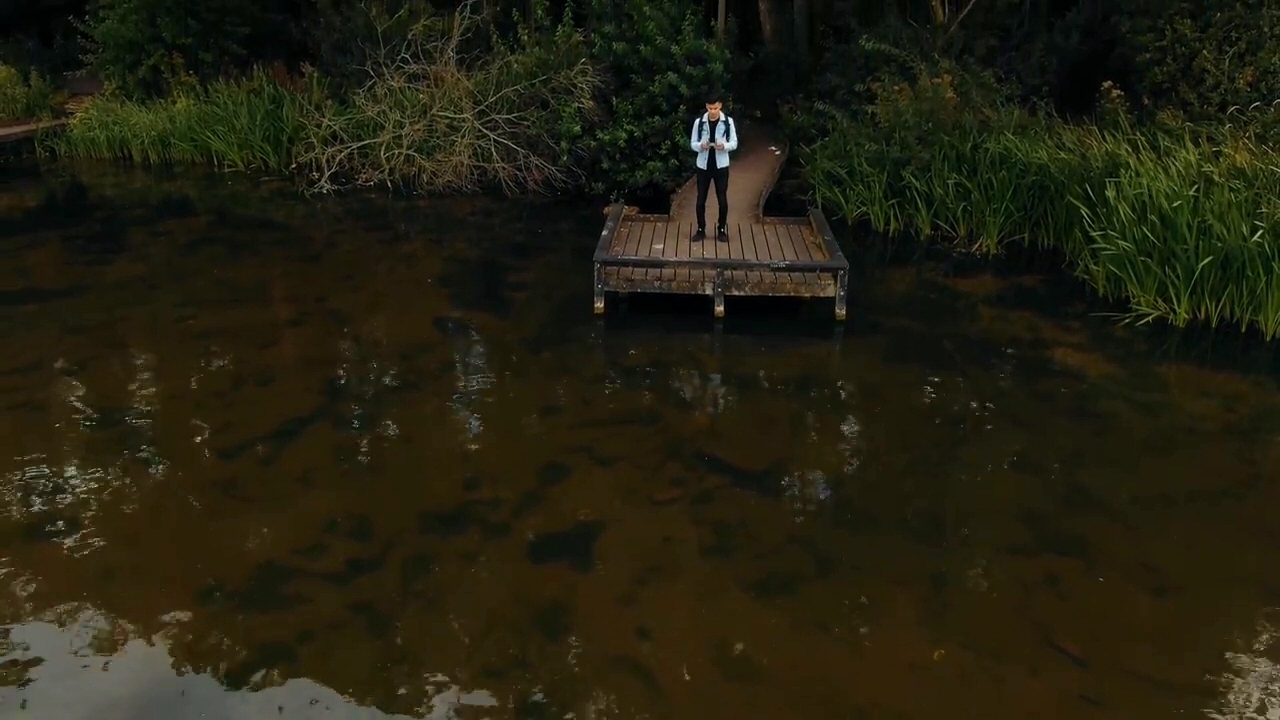insan: (685, 96, 742, 243)
